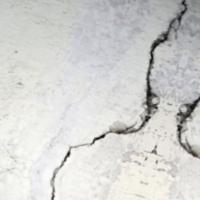crack: (42, 1, 199, 199)
